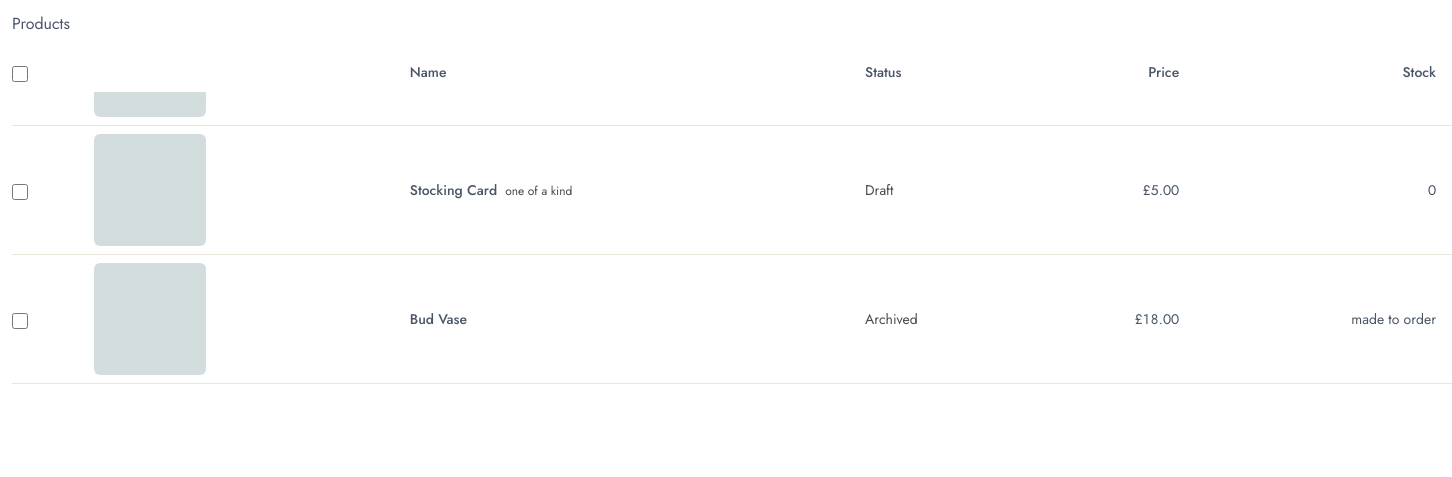
ProductTable › says which pieces it could not put on the shop, and why
The width and height of the screenshot is (1452, 477).
Click the checkbox named "select all" at (20, 74), box [12, 66, 28, 82]
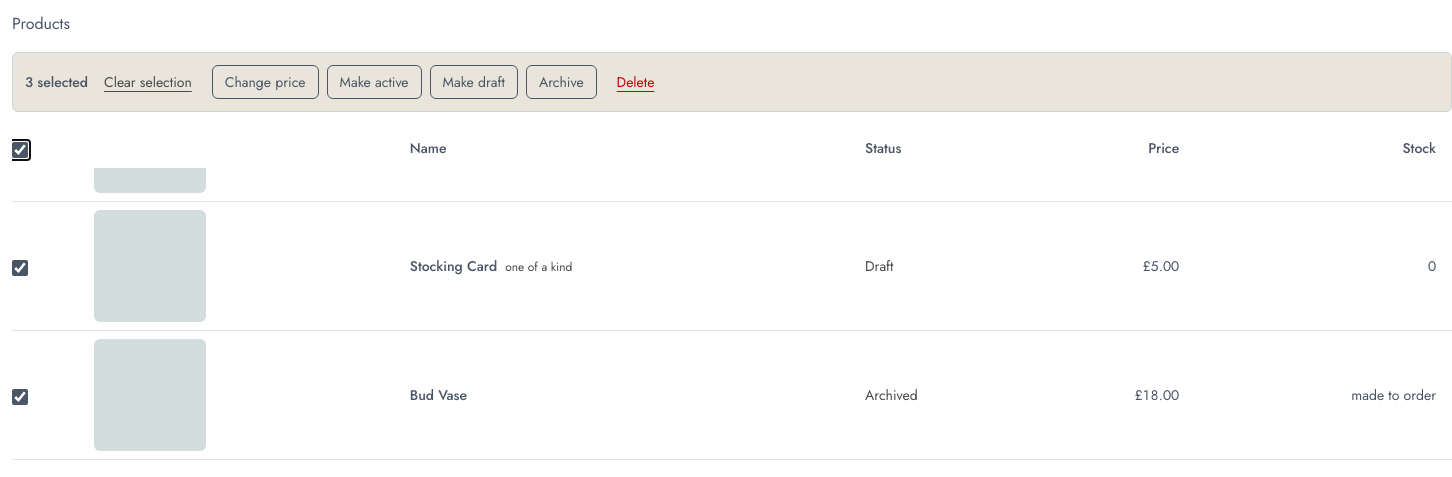
Click the button "Make active" at (374, 82), box [327, 65, 422, 99]
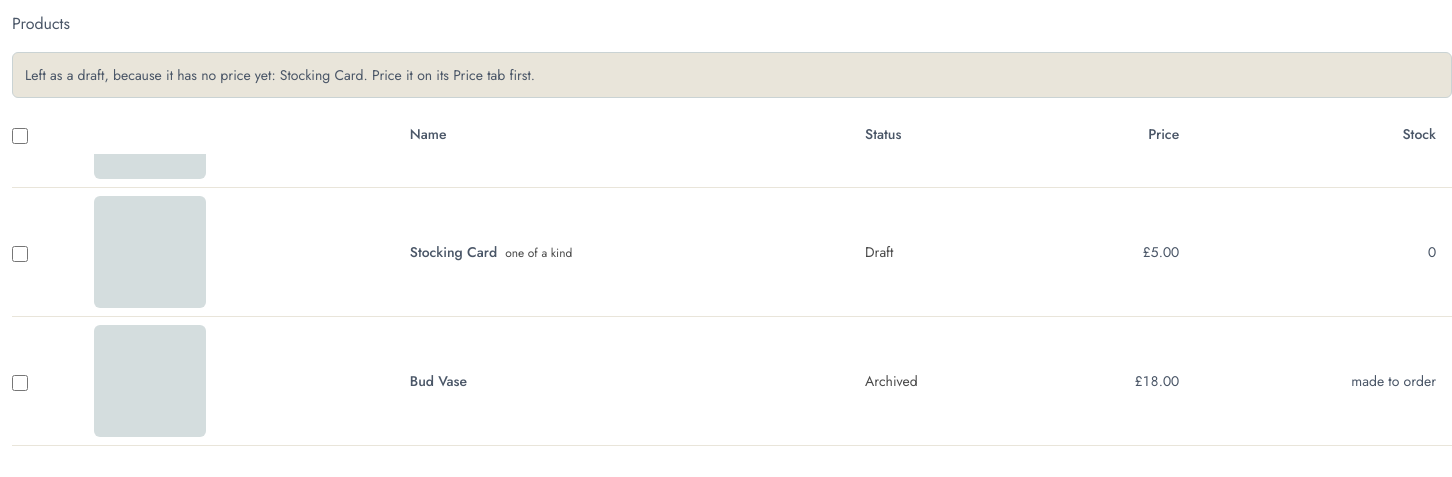
Now the message shows "Stocking Card", box [280, 65, 364, 85]
Now the message shows "price tab", box [449, 65, 535, 85]
